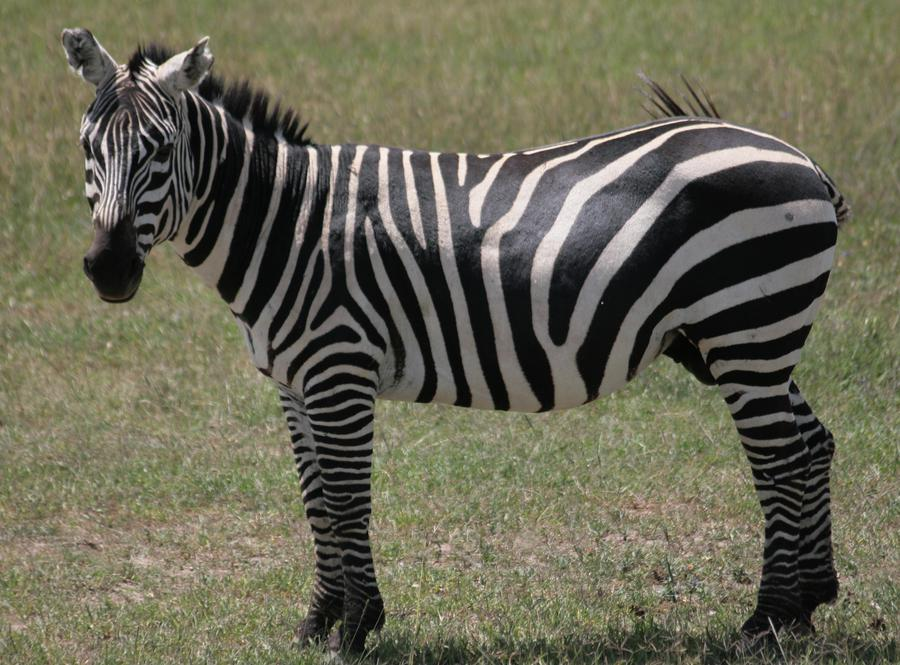zebra_plains: (240, 128, 817, 359)
